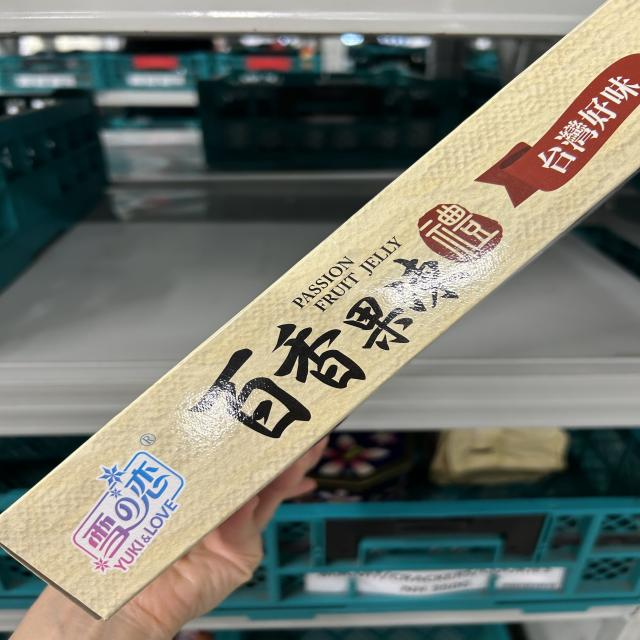object_name: (10, 25, 640, 609)
